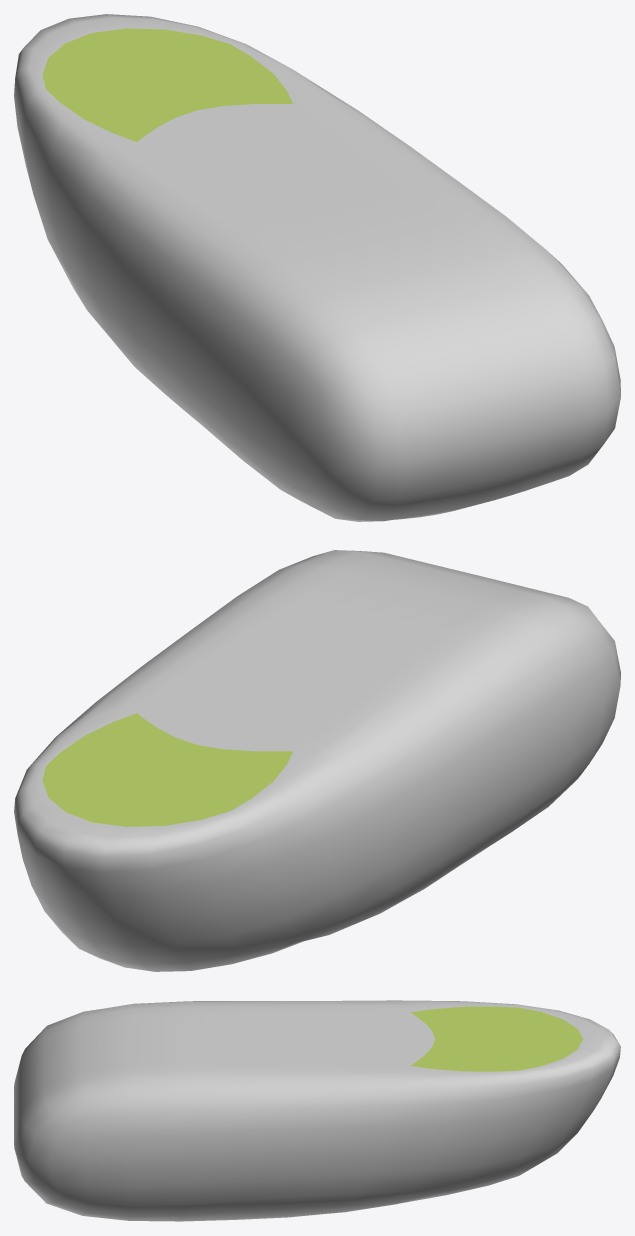
Rendered from Dedoanashex.fbx.
3 renders of one model, top to bottom at view 1: azimuth 30°, elevation 25°; view 2: azimuth 150°, elevation 25°; view 3: azimuth 270°, elevation 25°, orthographic. The views are drawn at different scales.
Visible parts, largest first — view 1: Dedo; view 2: Dedo; view 3: Dedo.
Part boxes in pixels (left/top/right/bottom): Dedo: left=14, top=14, right=620, bottom=521; Dedo: left=14, top=550, right=620, bottom=971; Dedo: left=14, top=1000, right=620, bottom=1221.
Bounding box in the file's own units: 67.47 × 47.02 × 156.
